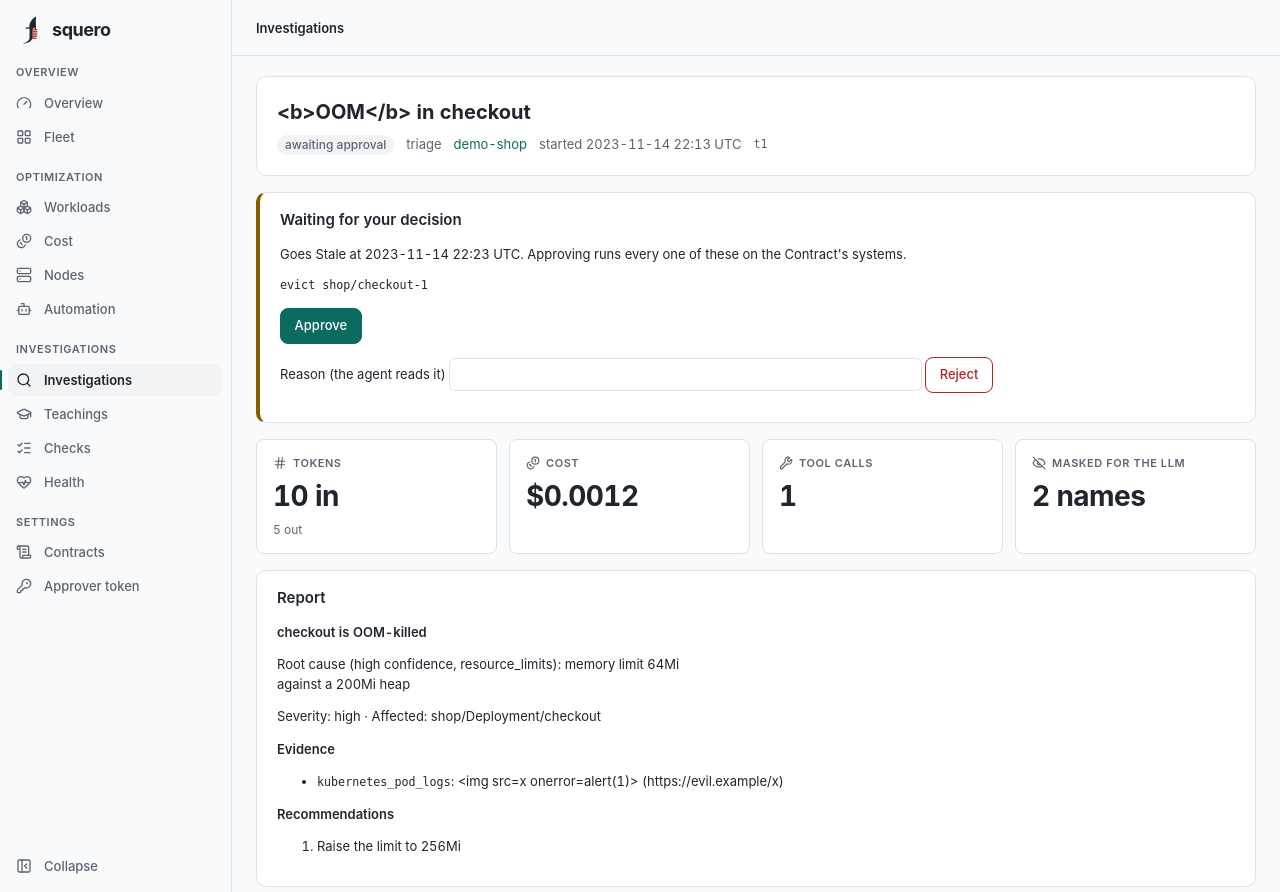
Test: approving posts the pause it showed, and the page shows what came back
What coordinates should you click on to do the following:
click the button "Approve"
I would click on:
 (321, 326)
Its box is [280,308,362,344].
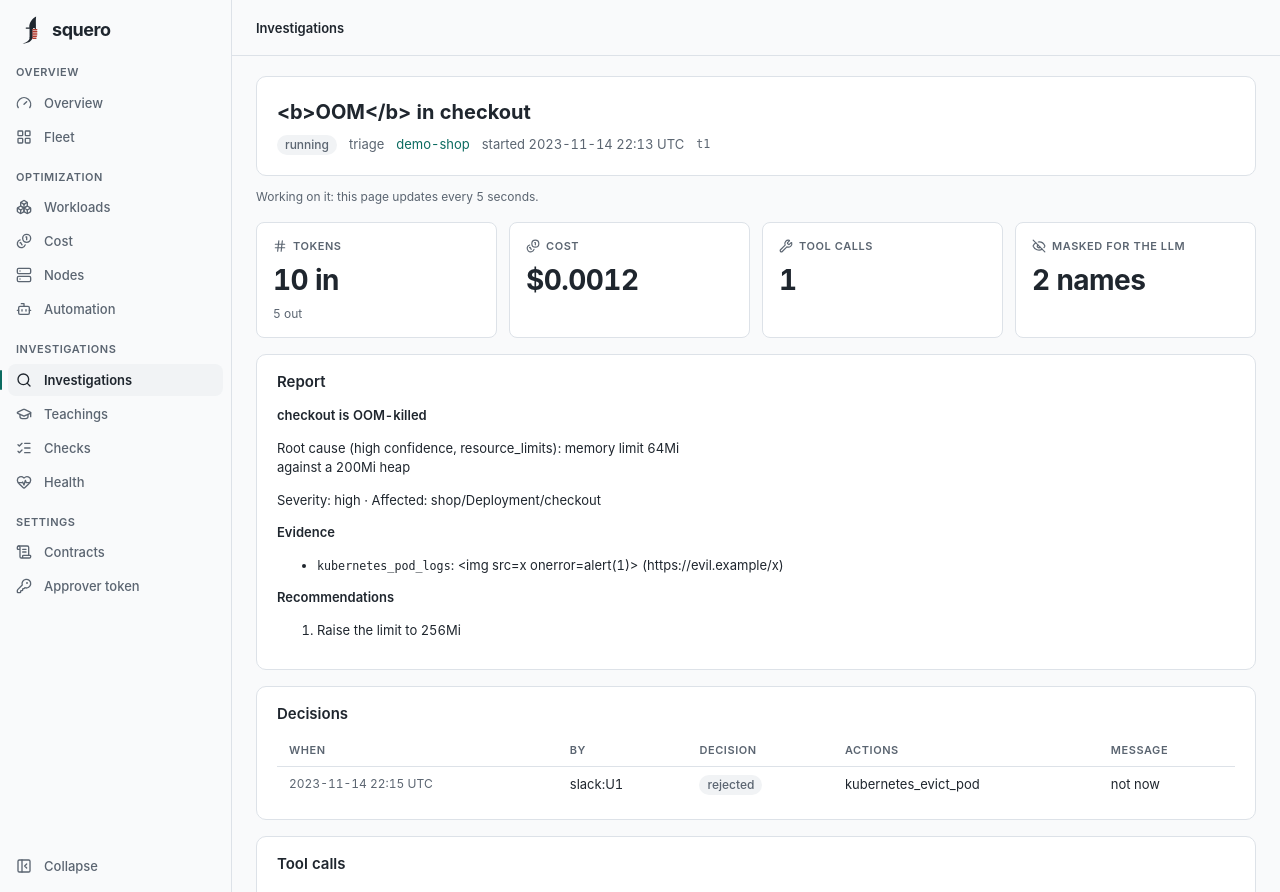
Now the text "Working on it: this page updates every 5 seconds." is shown, box [256,189,538,204]
Now the heading "Waiting for your decision" is gone
